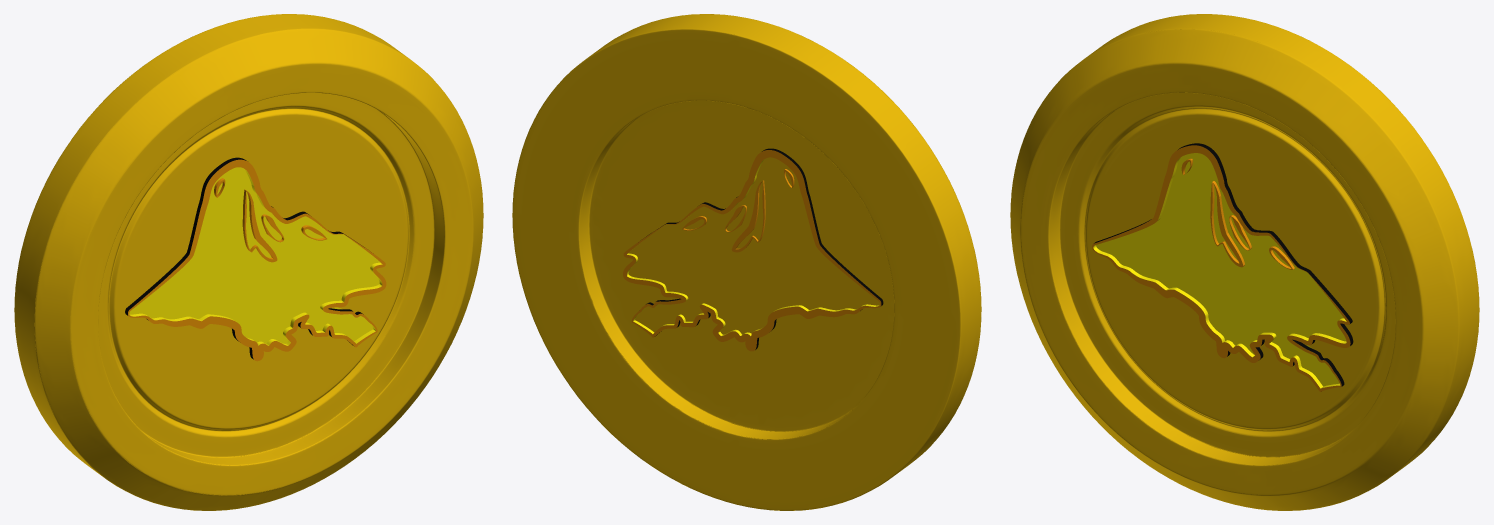
The model's file is islandCoin.glb.
3 renders of one model, left to right at view 1: azimuth 30°, elevation 25°; view 2: azimuth 150°, elevation 25°; view 3: azimuth 330°, elevation 25°, orthographic.
Visible parts, largest first — view 1: Cylinder.001, Curve.004, Curve.005, Curve.002; view 2: Cylinder.001, Curve.003, Curve.001; view 3: Cylinder.001, Curve.004, Curve.005, Curve.002.
Boxes of the visible parts, <box> form: Cylinder.001: <box>14,14,483,510</box>; Curve.004: <box>125,157,386,361</box>; Curve.005: <box>134,169,379,343</box>; Curve.002: <box>214,178,326,262</box>; Cylinder.001: <box>512,14,981,510</box>; Curve.003: <box>623,148,883,351</box>; Curve.001: <box>682,169,794,252</box>; Cylinder.001: <box>1010,14,1479,510</box>; Curve.004: <box>1092,143,1353,391</box>; Curve.005: <box>1096,155,1344,384</box>; Curve.002: <box>1181,158,1294,269</box>.
Bounding box in the file's own units: 2.94 × 2.94 × 0.3803.
